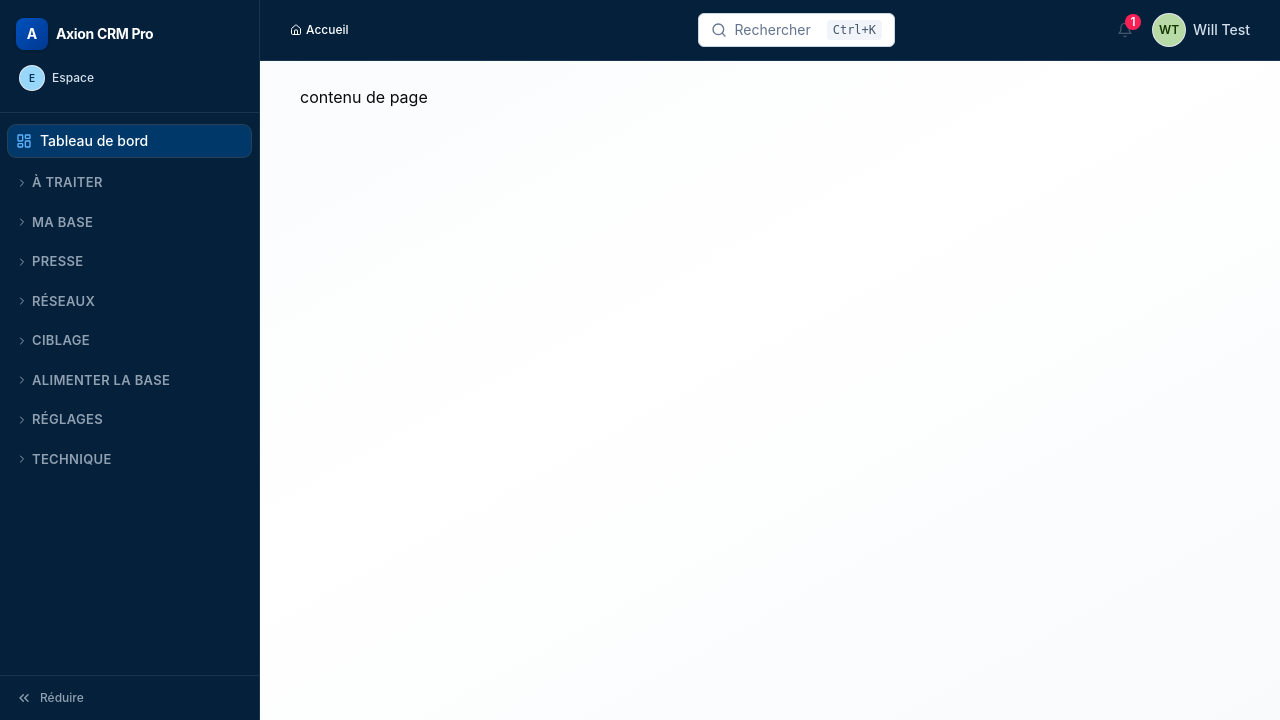
it: D24-002 — la cloche de l’en-tete ouvre un panneau reel › le clic OUVRE un panneau qui porte les notifications du serveur
Click the button named "Notifications".
click(1125, 30)  # box 1111,16 -> 1139,44
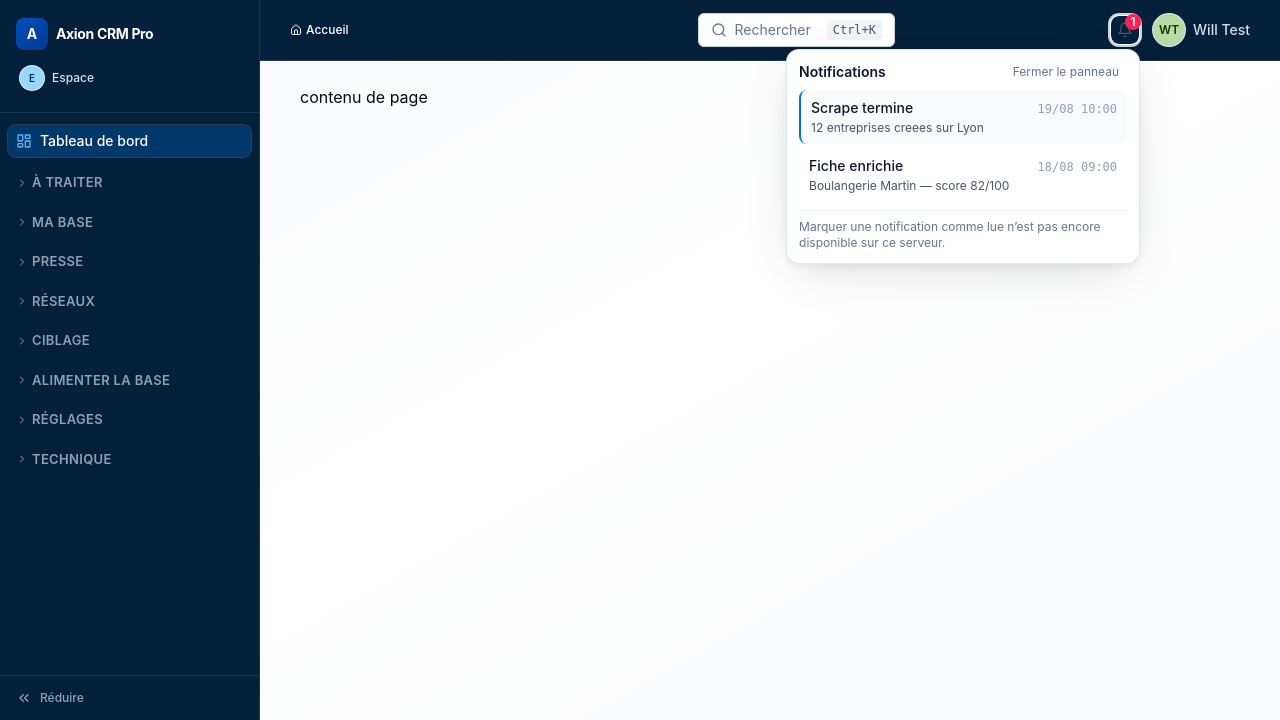
expect the dialog "Notifications" is shown: met, box 787,50 -> 1139,263
expect the text "Scrape termine" is shown: met, box 811,98 -> 913,118
expect the text "Fiche enrichie" is shown: met, box 809,156 -> 903,176
